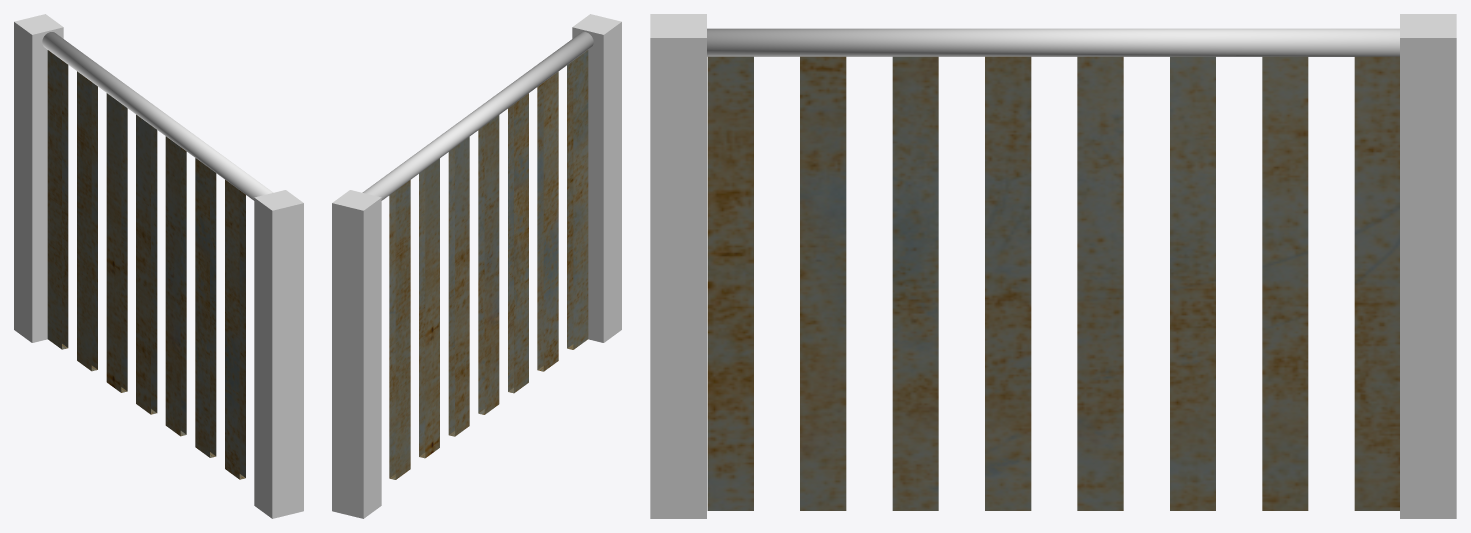
File: gate.fbx
The picture shows the model from 3 angles, left to right: view 1: azimuth 30°, elevation 25°; view 2: azimuth 150°, elevation 25°; view 3: azimuth 270°, elevation 25°; orthographic projection. The views are drawn at different scales.
Parts seen in each view (by area): view 1: Cube.009, Cube.010, Cube.011, door.001; view 2: Cube.009, Cube.011, Cube.010, door.001; view 3: Cube.009, Cube.010, Cube.011, door.001.
Part boxes in pixels (left/top/right/bottom): Cube.009: left=47, top=50, right=245, bottom=479; Cube.010: left=254, top=190, right=303, bottom=518; Cube.011: left=14, top=14, right=63, bottom=342; door.001: left=42, top=32, right=273, bottom=200; Cube.009: left=389, top=50, right=588, bottom=479; Cube.011: left=332, top=190, right=381, bottom=518; Cube.010: left=572, top=14, right=621, bottom=342; door.001: left=362, top=32, right=593, bottom=200; Cube.009: left=707, top=56, right=1399, bottom=510; Cube.010: left=650, top=14, right=706, bottom=518; Cube.011: left=1400, top=14, right=1456, bottom=518; door.001: left=707, top=28, right=1399, bottom=56.
Bounding box in the file's own units: 70.76 × 660 × 1003.
